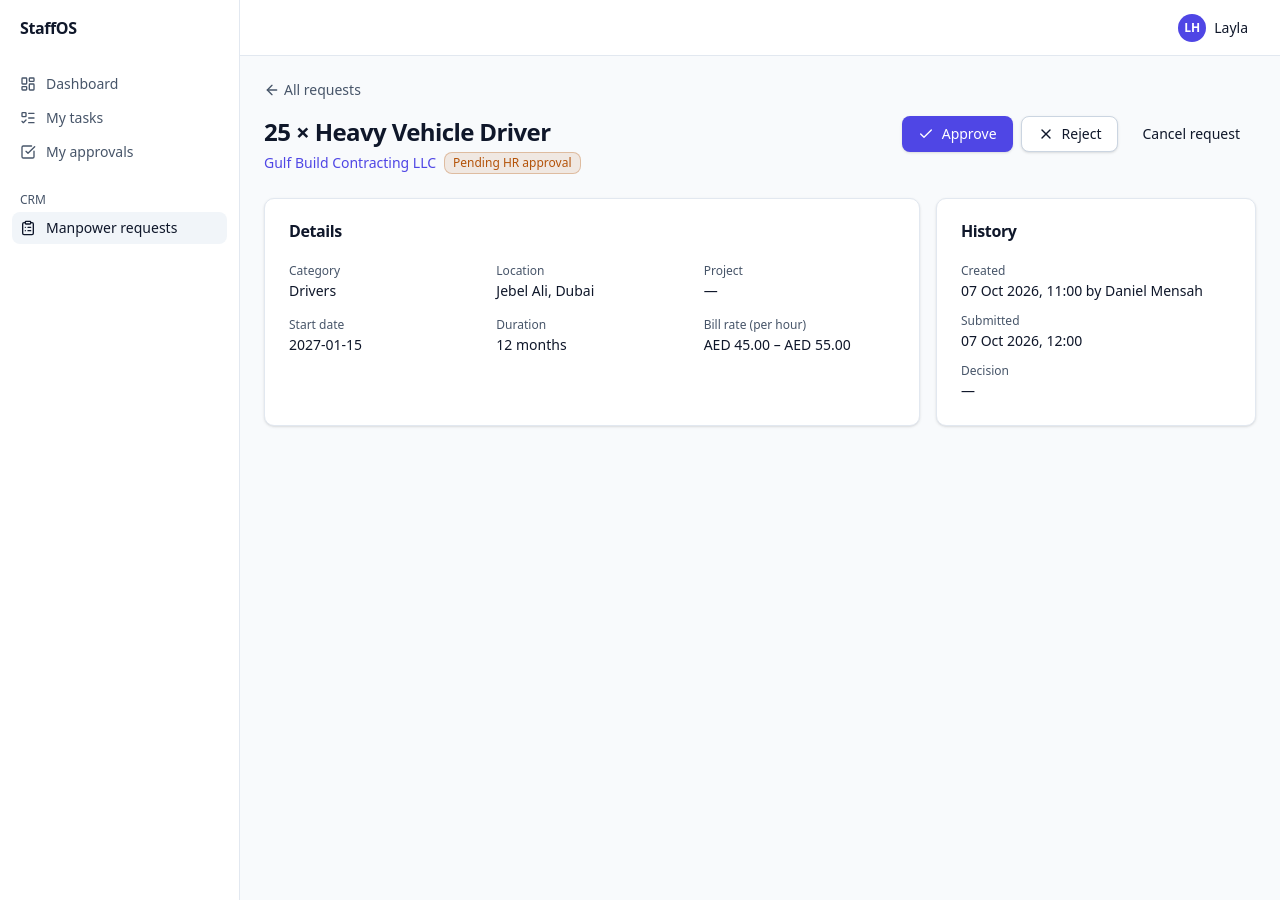
Test: manpower request detail › requires a reason to reject
The image size is (1280, 900).
Click the button "Reject" at (1070, 134), box left=1021, top=116, right=1118, bottom=152
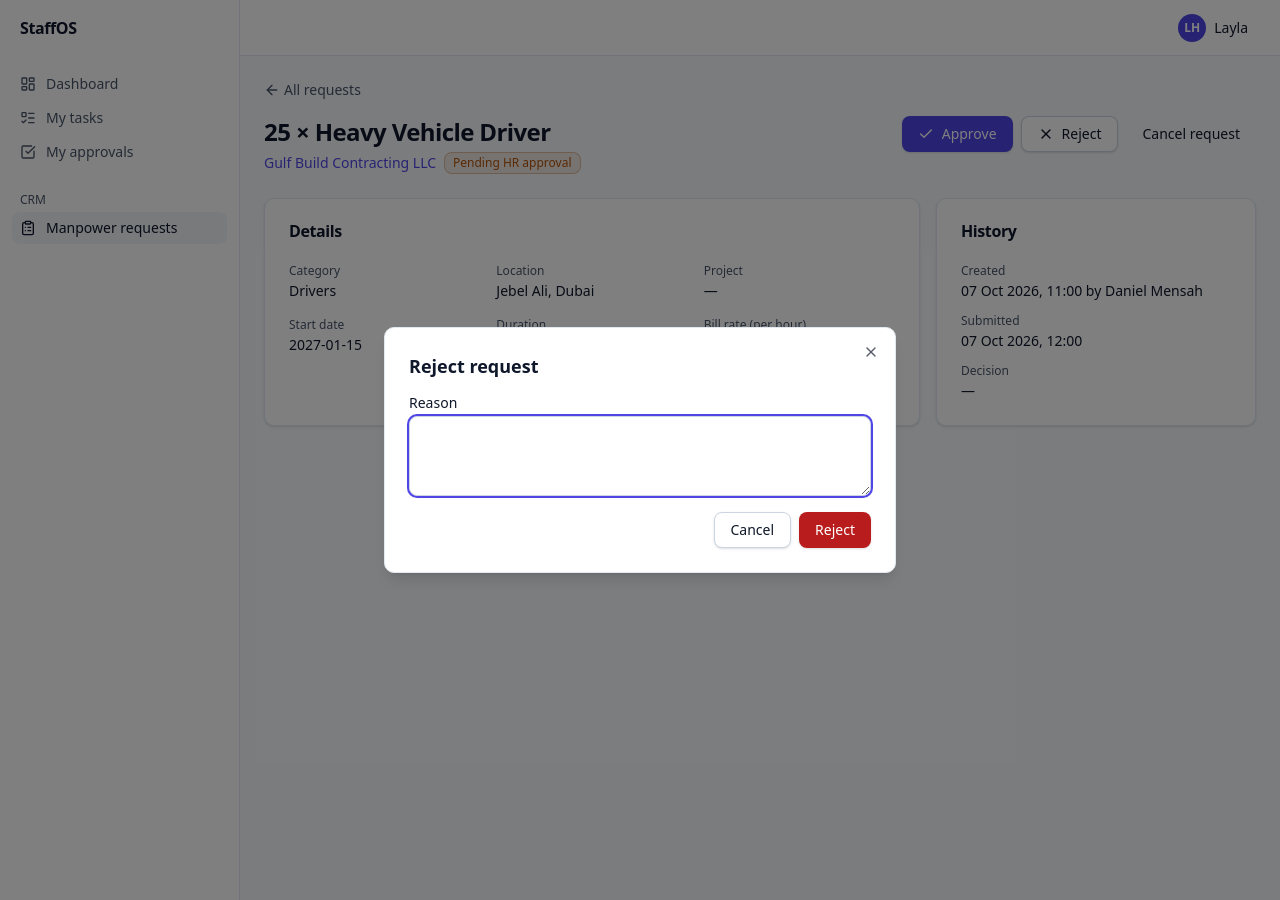
Click the button "Reject" at (835, 530), box left=799, top=512, right=871, bottom=548
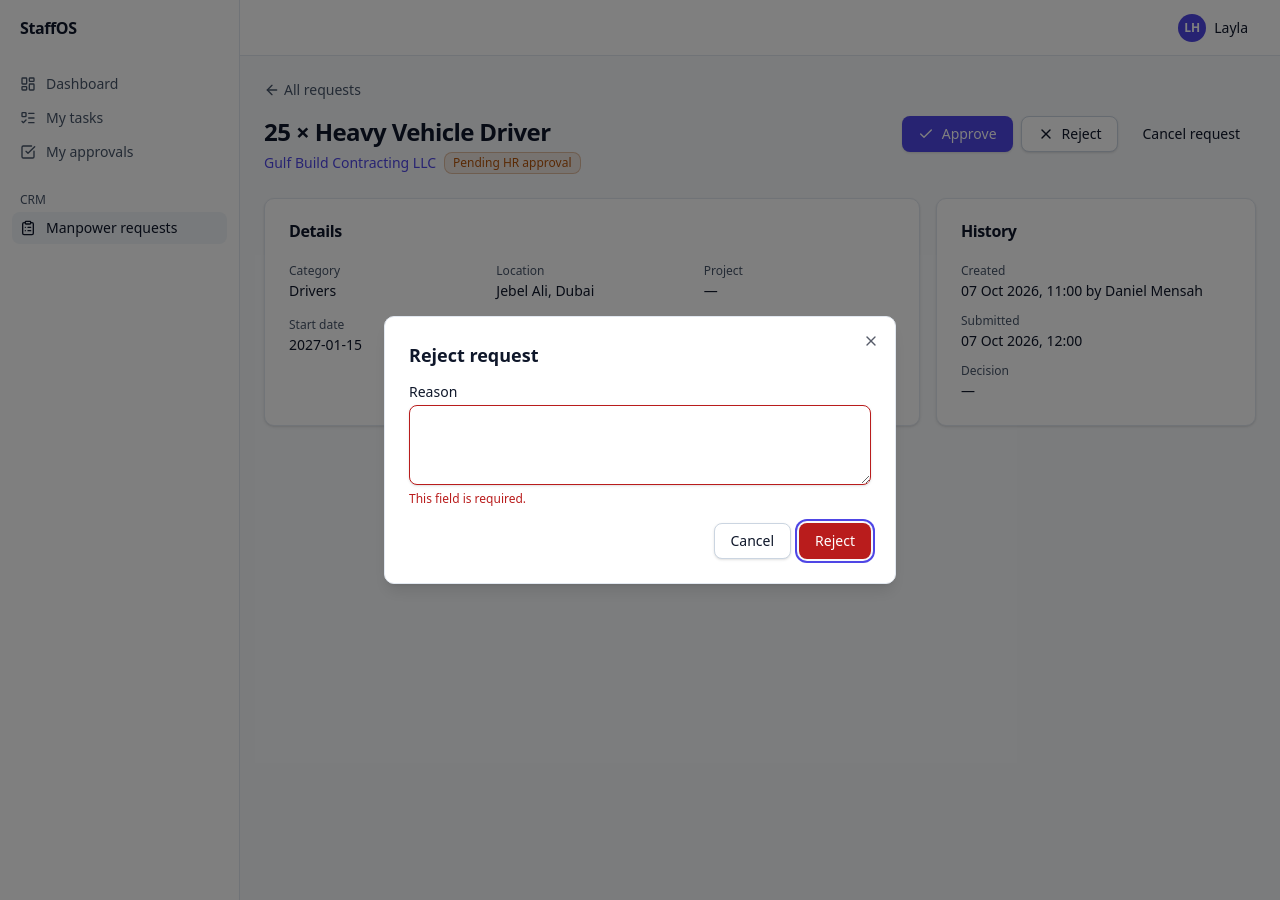
expect the text "This field is required." is shown: met, box left=409, top=490, right=526, bottom=507
